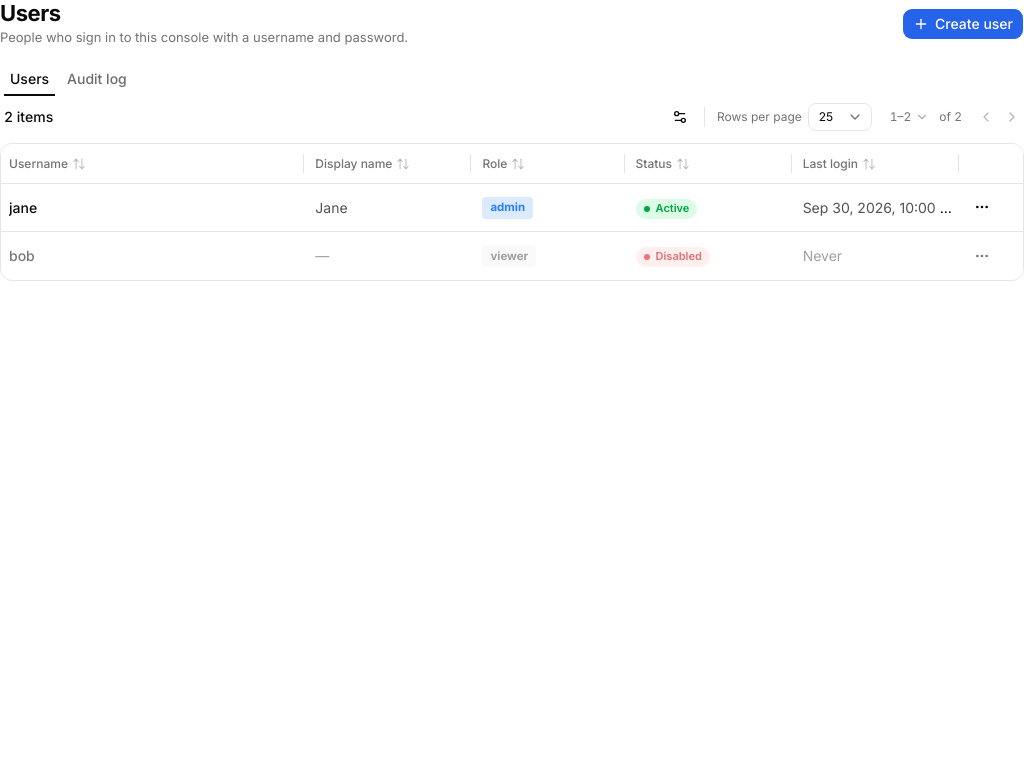
it: UsersPage › reset password: confirms, then shows the temporary password once
Expected: the text "bob" is shown, [9, 247, 35, 264]
Click the button named "Actions for bob" at [982, 256], box [970, 244, 994, 268]
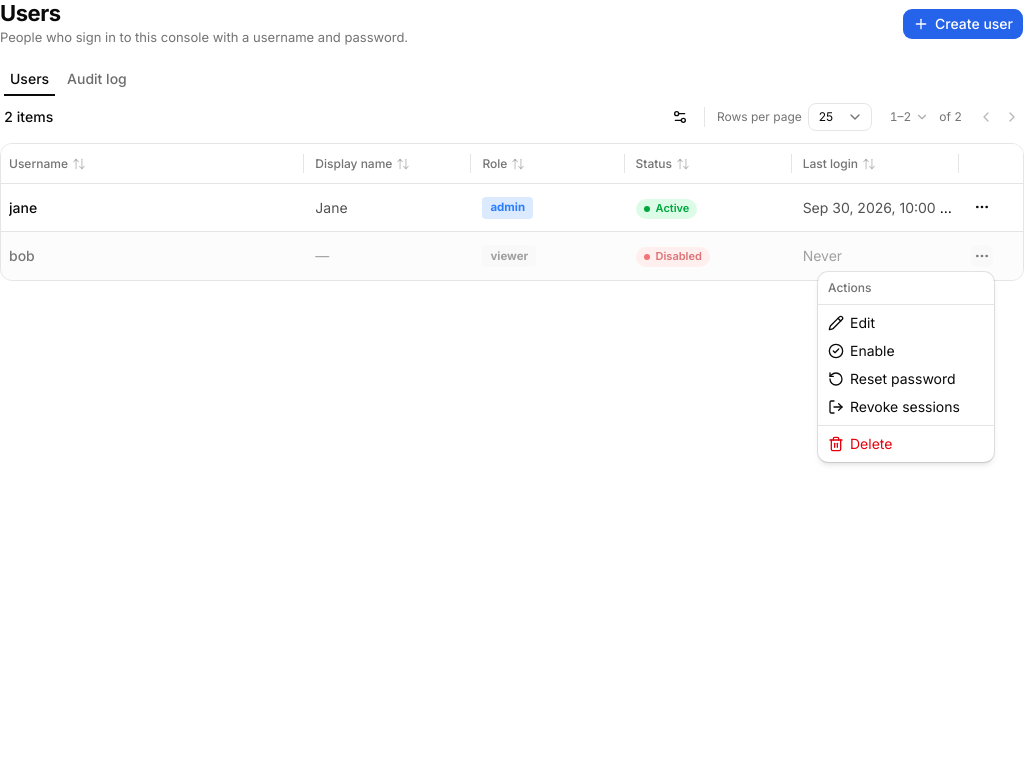
Click the menu item "Reset password" at [892, 378], box [828, 370, 956, 387]
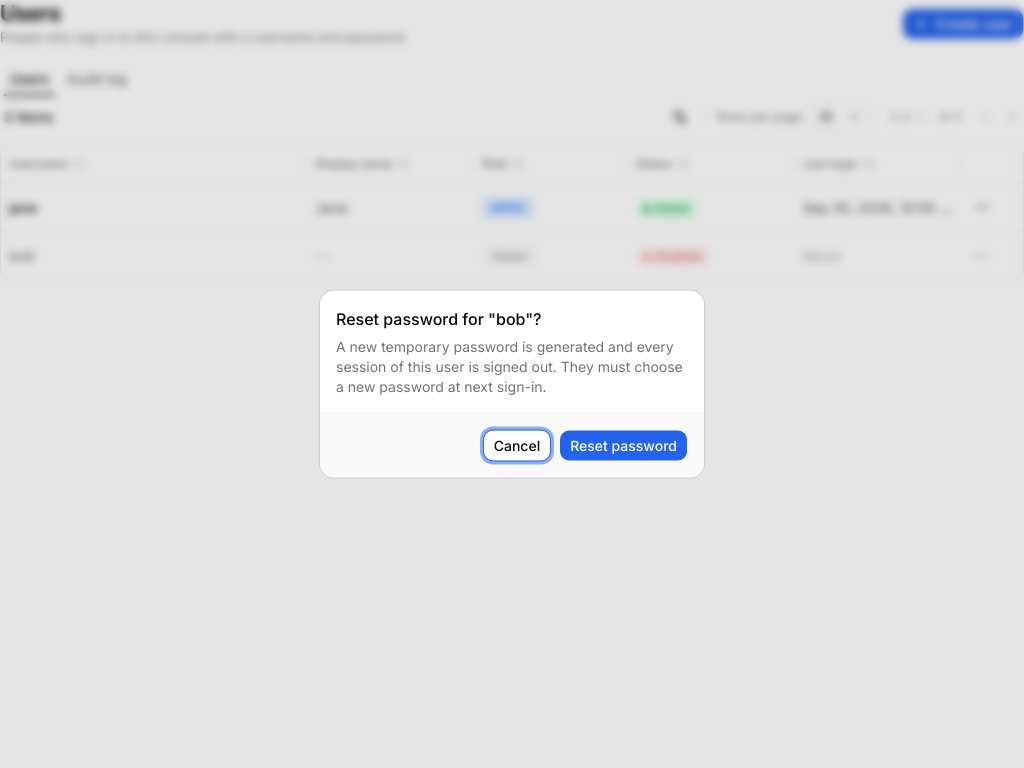
Expected: the heading "Reset password for \"bob\"?" is shown, [336, 306, 542, 330]
Click the button "Reset password" at [624, 446], box [559, 430, 688, 462]
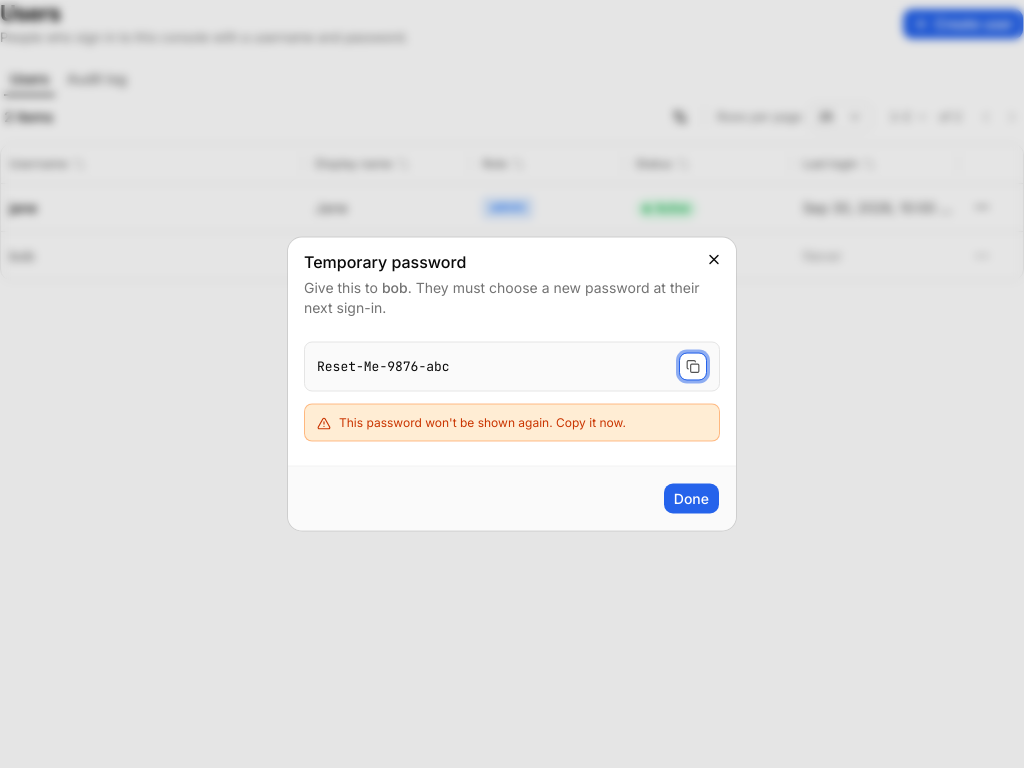
Expected: the text with test id "temporary-password" reads "Reset-Me-9876-abc", [317, 357, 450, 374]
Click the button "Done" at [691, 498], box [663, 482, 720, 514]
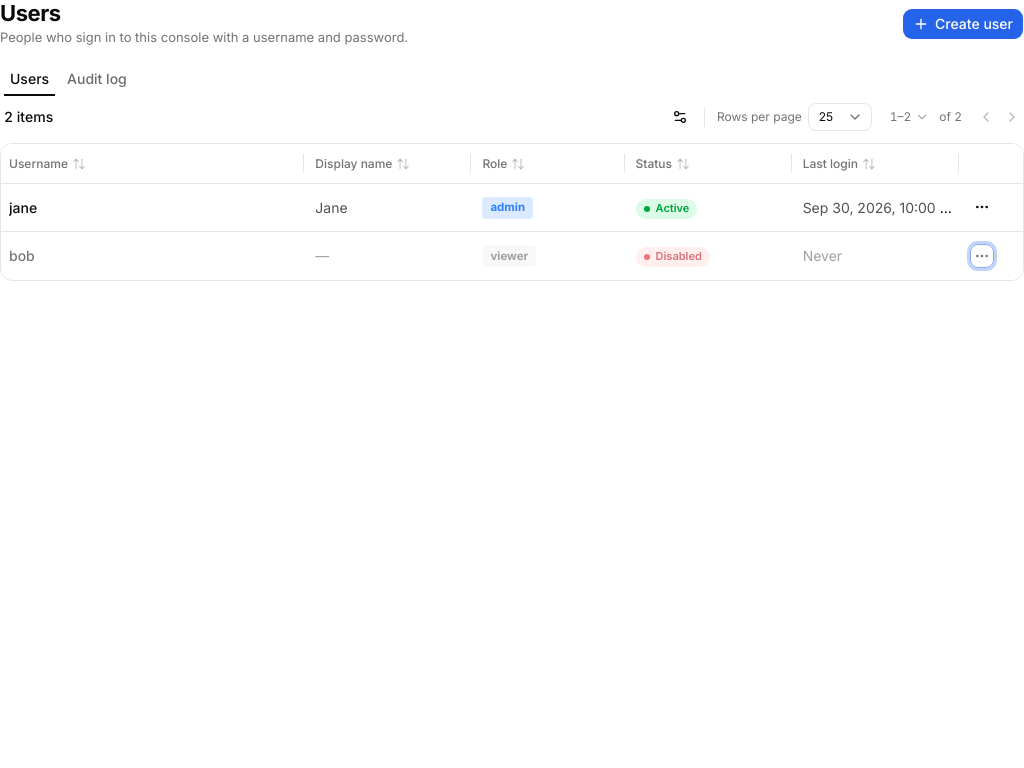
Expected: the text with test id "temporary-password" is gone
